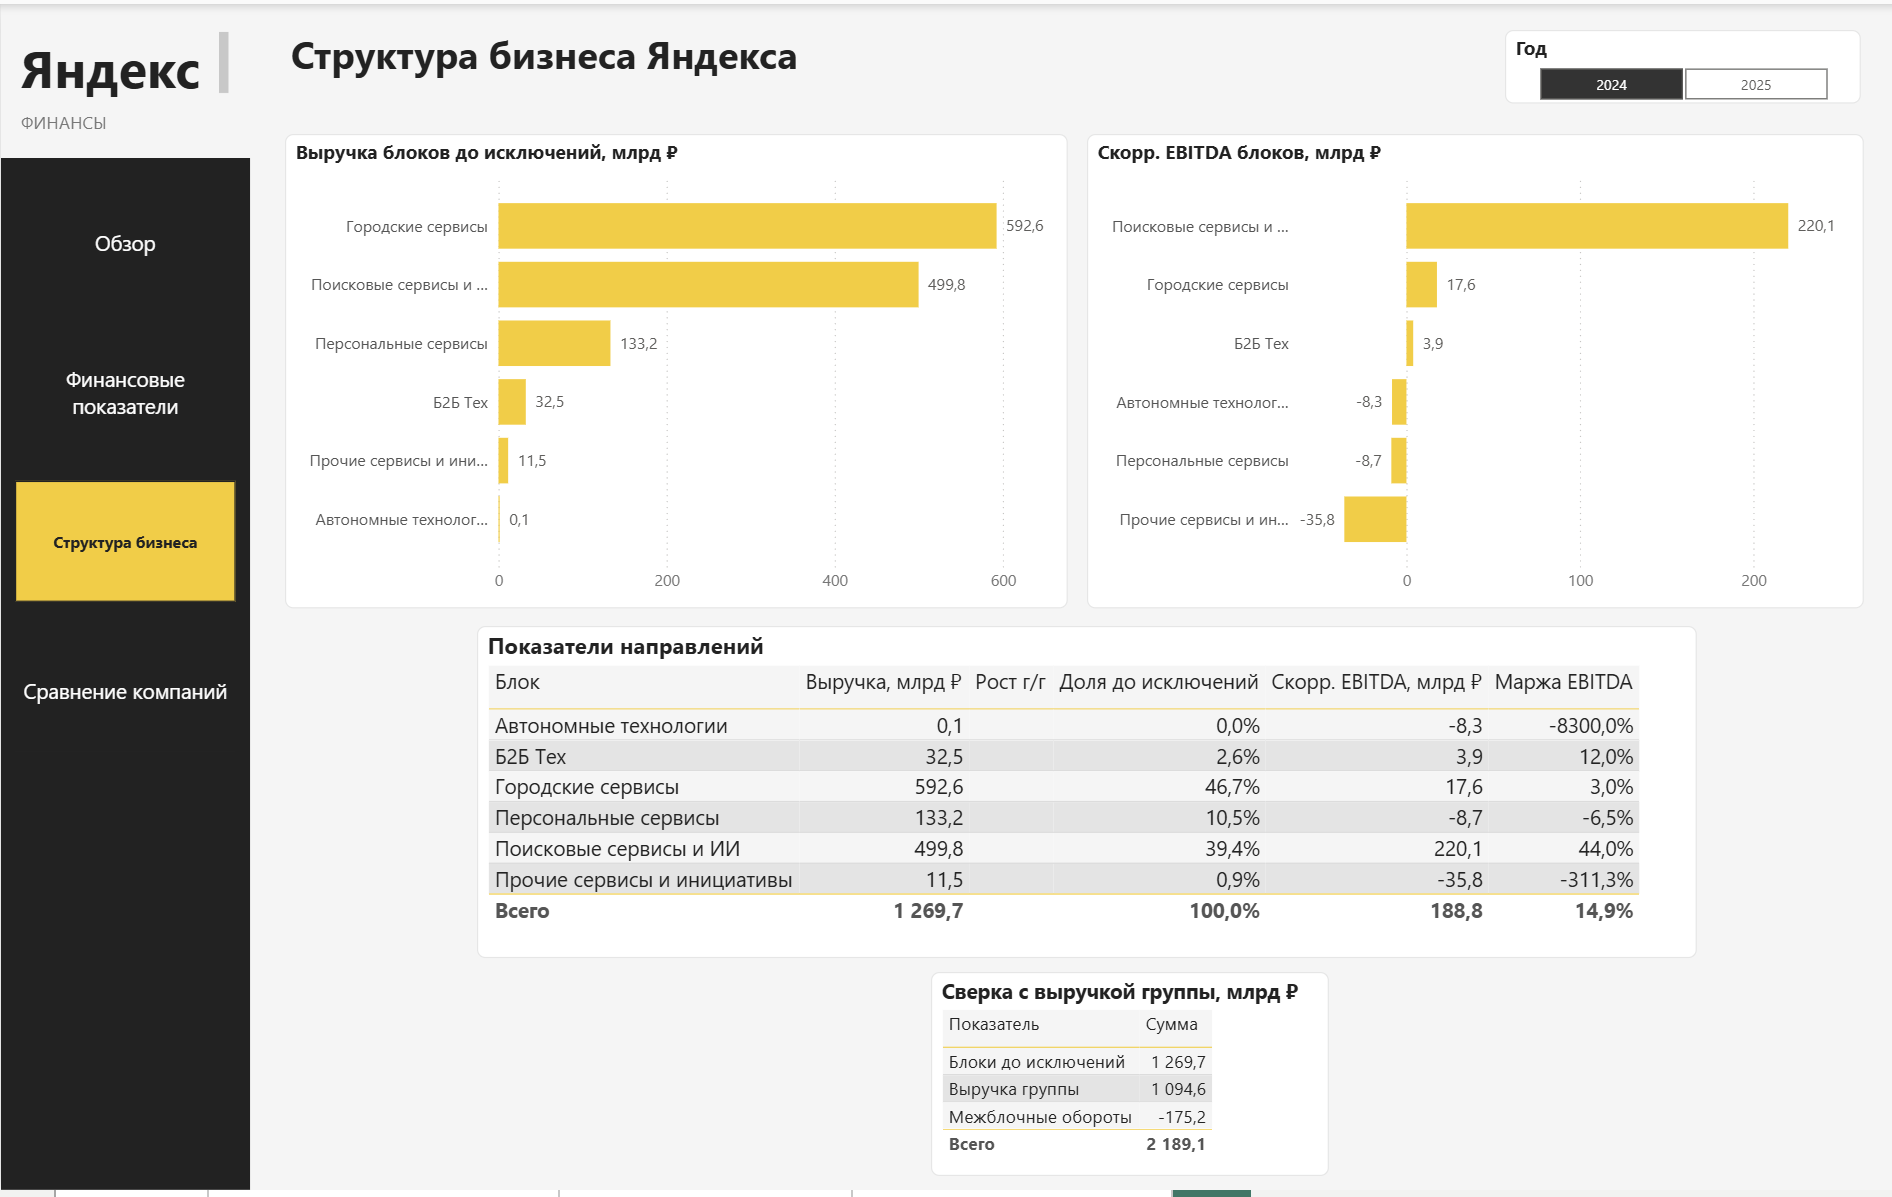

The page's visual inventory and layout, read from the dashboard file:
{"tool":"powerbi","page":{"name":"Структура бизнеса","canvas":[1600,1000],"ordinal":2},"visuals":[{"type":"textbox","box":[12,18,185,65],"z":0},{"type":"textbox","box":[12,85,185,30],"z":1000},{"type":"textbox","box":[0,130,210,870],"z":2000},{"type":"textbox","box":[239.5,15.2,989.9,62.4],"z":3000},{"type":"slicer","title":"Год","fields":{"Values":["Period.Year"]},"box":[1268,22,300,62],"z":5000},{"type":"barChart","title":"Выручка блоков до исключений, млрд ₽","fields":{"Category":["Segments.Block"],"Y":["Period.Выручка блока"]},"box":[240,110,660,400],"z":6000},{"type":"barChart","title":"Скорр. EBITDA блоков, млрд ₽","fields":{"Category":["Segments.Block"],"Y":["Period.EBITDA блока"]},"box":[916,110,655,400],"z":7000},{"type":"tableEx","title":"Показатели направлений","fields":{"Values":["Segments.Block","Period.Выручка блока","Period.Рост блока","Period.Доля в выручке блоков","Period.EBITDA блока","Period.Маржа блока"]},"box":[401.3,524.5,1028.7,279.9],"z":8000},{"type":"tableEx","title":"Сверка с выручкой группы, млрд ₽","fields":{"Values":["Reconciliation.Item","Period.Сверка выручки"]},"box":[784.1,816.2,335.6,172],"z":9000},{"type":"pageNavigator","box":[12,150,186,480],"z":10000}]}

Visuals, with their boxes on the page's 1600x1000 design canvas (x1, y1, x2, y2). These are canvas units, not pixel positions in the 1892x1197 screenshot, which may show the page scaled, cropped or inside an application window:
textbox: [left=12, top=18, right=197, bottom=83]
textbox: [left=12, top=85, right=197, bottom=115]
textbox: [left=0, top=130, right=210, bottom=1000]
textbox: [left=240, top=15, right=1229, bottom=78]
"Год" slicer: [left=1268, top=22, right=1568, bottom=84]
"Выручка блоков до исключений, млрд ₽" barChart: [left=240, top=110, right=900, bottom=510]
"Скорр. EBITDA блоков, млрд ₽" barChart: [left=916, top=110, right=1571, bottom=510]
"Показатели направлений" tableEx: [left=401, top=524, right=1430, bottom=804]
"Сверка с выручкой группы, млрд ₽" tableEx: [left=784, top=816, right=1120, bottom=988]
pageNavigator: [left=12, top=150, right=198, bottom=630]
